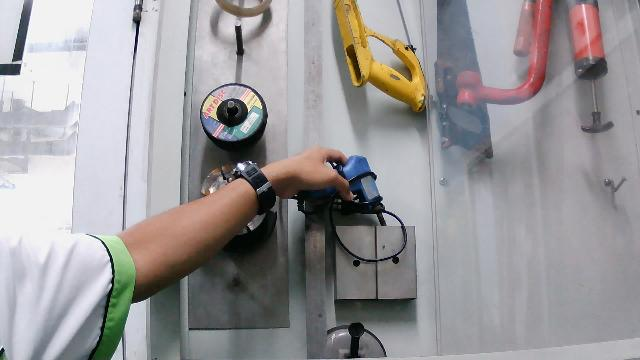solder_electrical: (283, 146, 410, 264)
